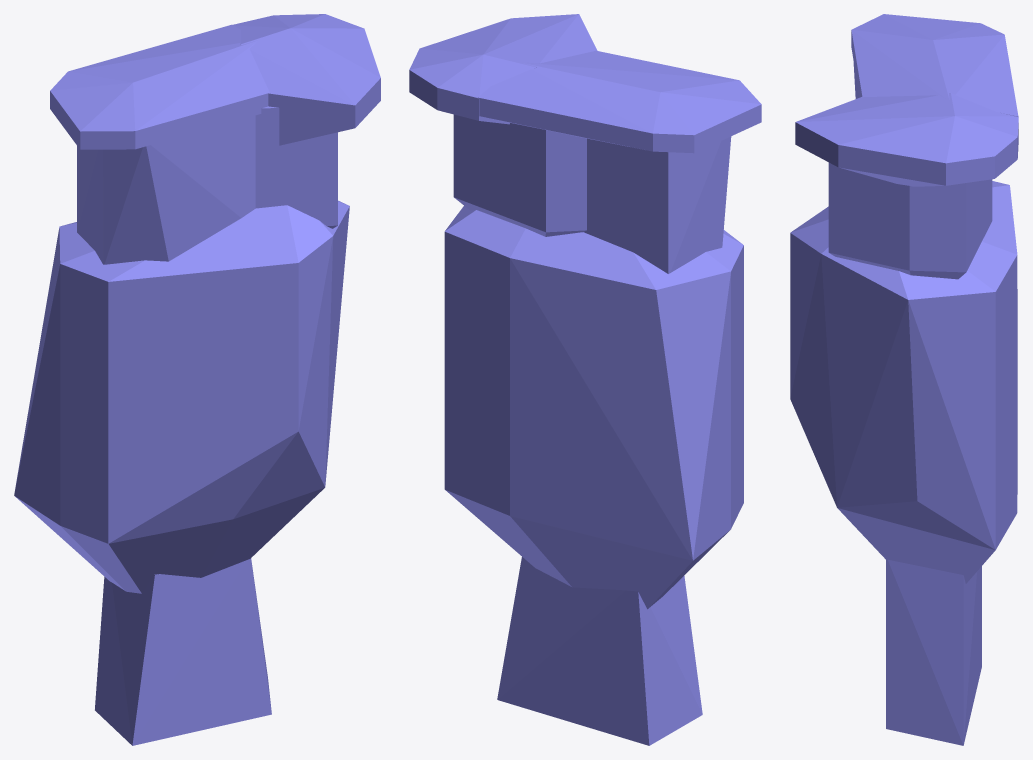
Rendered from Cliff_Spire_01_Collider_01.FBX.
3 renders of one model, left to right at view 1: azimuth 30°, elevation 25°; view 2: azimuth 150°, elevation 25°; view 3: azimuth 270°, elevation 25°, orthographic.
Parts seen in each view (by area): view 1: COLLIDER6, COLLIDER1, COLLIDER4, COLLIDER2, COLLIDER3, COLLIDER5; view 2: COLLIDER6, COLLIDER1, COLLIDER2, COLLIDER4, COLLIDER5, COLLIDER3; view 3: COLLIDER6, COLLIDER3, COLLIDER1, COLLIDER5, COLLIDER2.
Part boxes in pixels (x1,y1,x2,y2): COLLIDER6: [14, 200, 349, 593]; COLLIDER1: [95, 558, 271, 745]; COLLIDER4: [77, 115, 255, 264]; COLLIDER2: [50, 24, 269, 149]; COLLIDER3: [233, 14, 380, 145]; COLLIDER5: [255, 106, 337, 228]; COLLIDER6: [444, 206, 743, 609]; COLLIDER1: [497, 557, 702, 745]; COLLIDER2: [477, 50, 761, 153]; COLLIDER4: [583, 136, 731, 273]; COLLIDER5: [453, 114, 586, 236]; COLLIDER3: [409, 14, 597, 124]; COLLIDER6: [790, 181, 1017, 583]; COLLIDER3: [795, 93, 1018, 186]; COLLIDER1: [886, 559, 981, 745]; COLLIDER5: [828, 162, 992, 279]; COLLIDER2: [851, 14, 1018, 116].
Bounding box in the file's own units: 323 × 633 × 205.
